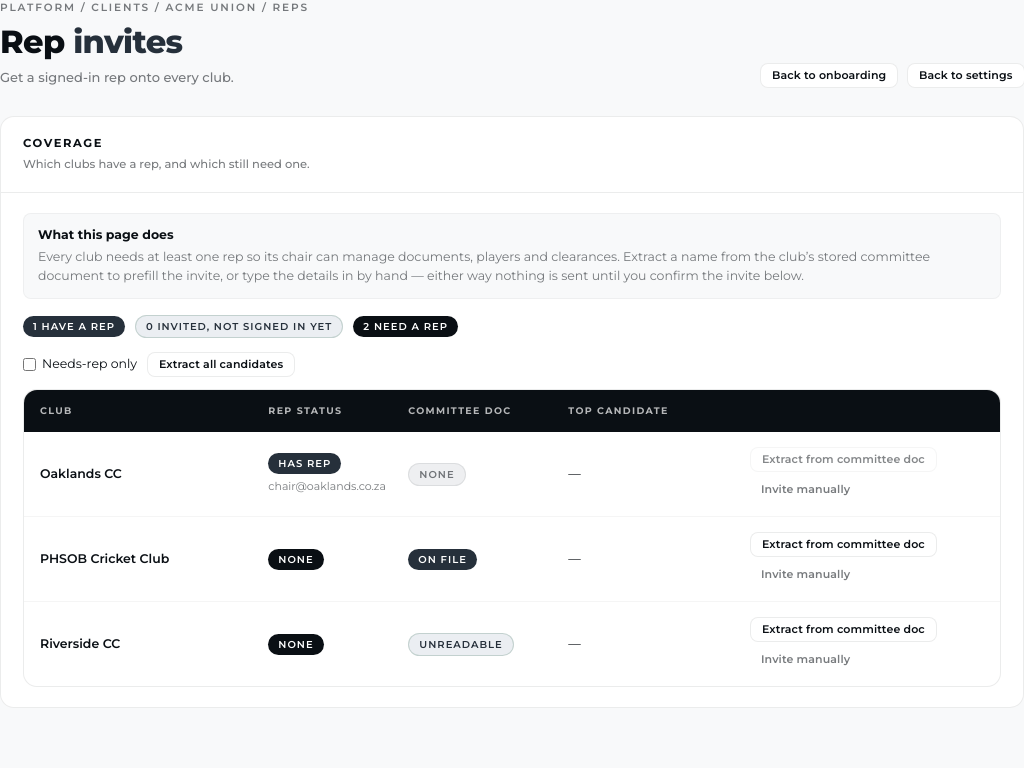
Scenario: RepsPage › explains extraction is unavailable when no committee role is assigned in the catalogue
Expected: the heading "Rep invites" is shown, top-left (0, 22), bottom-right (182, 61)
Click the button "Invite manually" in the row of "PHSOB Cricket Club": (806, 574) top-left (750, 563), bottom-right (861, 586)
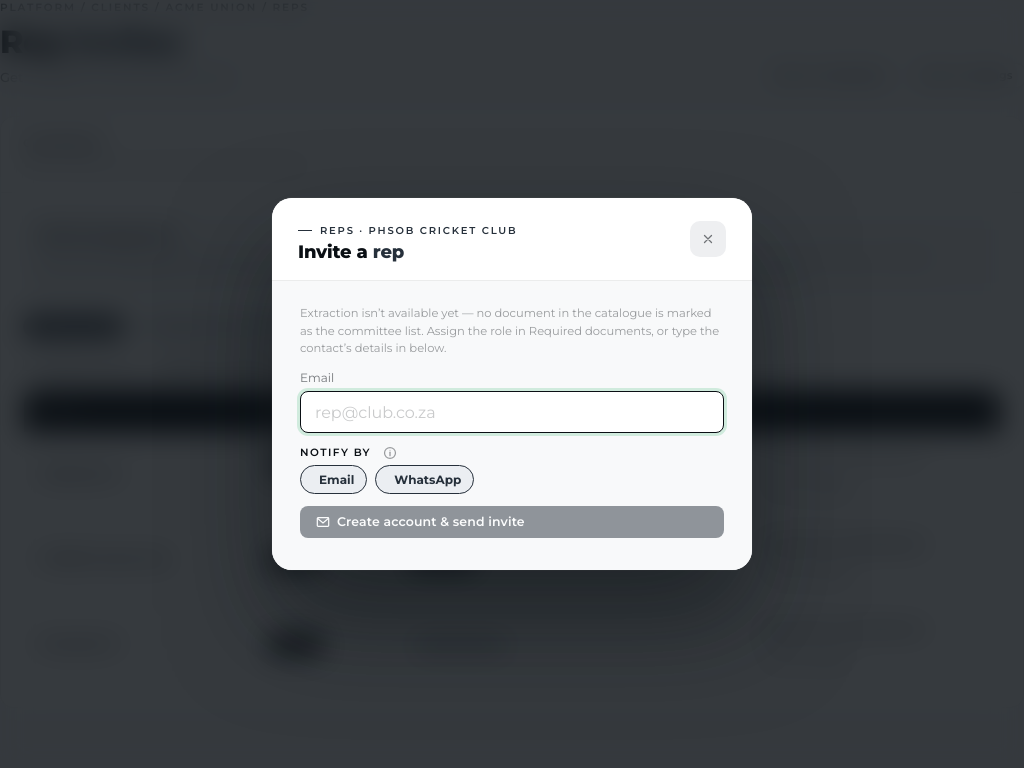
Now the text "Invite a rep" is shown, box top-left (298, 241), bottom-right (404, 263)
Now the text "no document in the catalogue is marked" is shown, box top-left (300, 306), bottom-right (719, 355)
